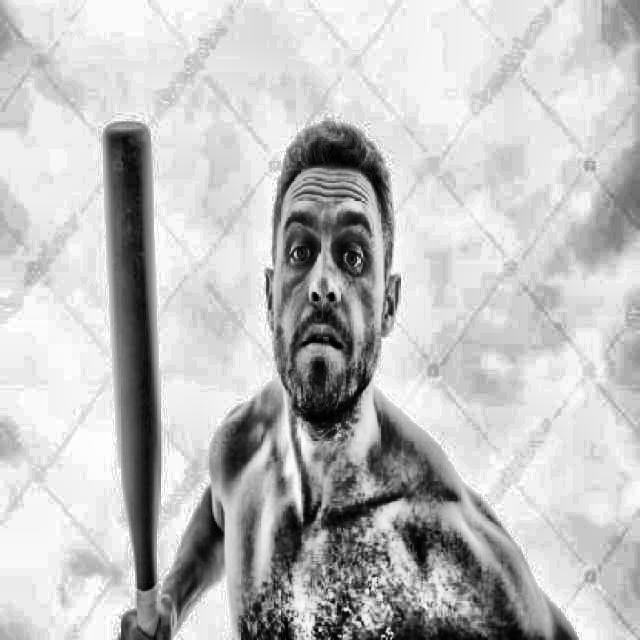tongkat pemukul: (101, 111, 168, 639)
